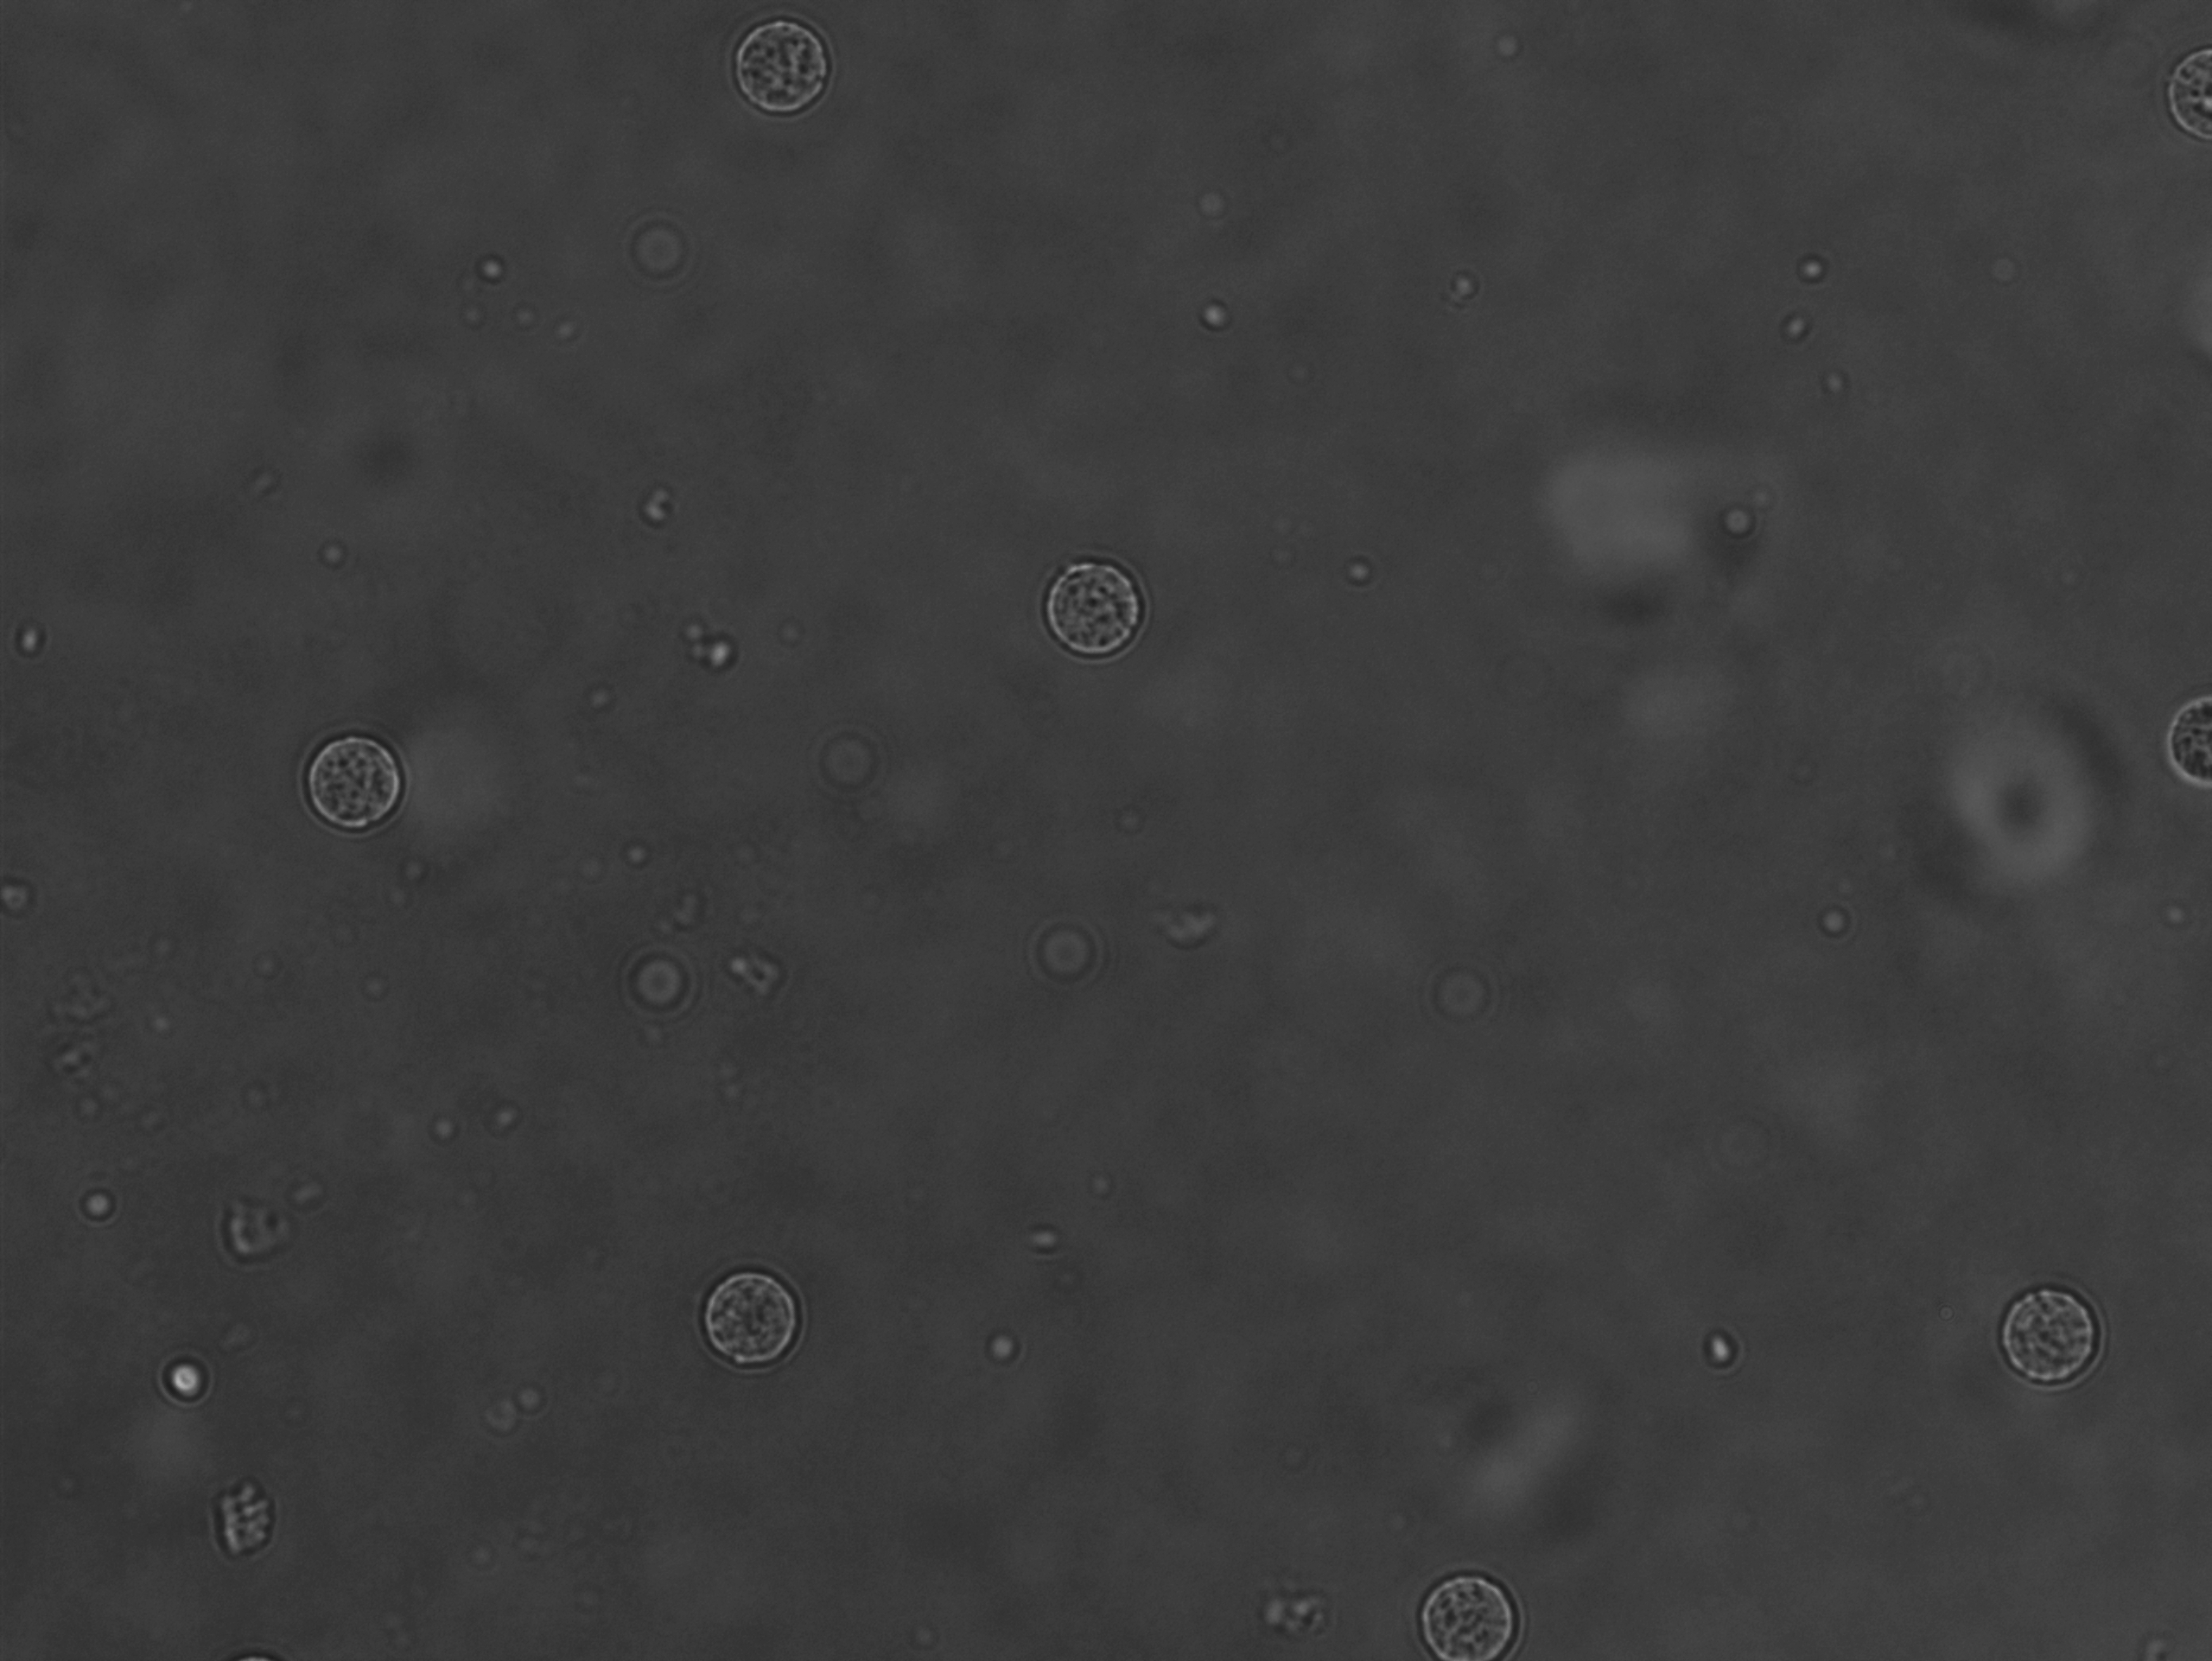depth:0: (1973, 1251, 2139, 1415), (286, 700, 434, 841), (1031, 529, 1174, 673), (700, 9, 851, 136), (1401, 1544, 1546, 1661), (689, 1251, 822, 1377), (2139, 663, 2212, 808)
